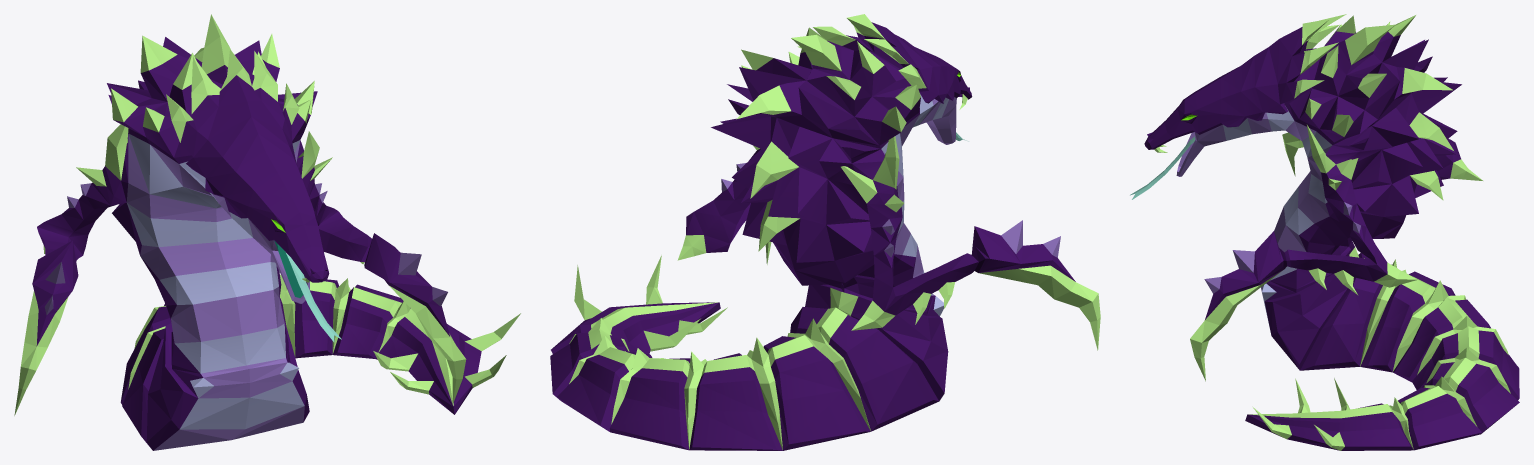
3 views of the same model, side by side, from view 1: azimuth 30°, elevation 25°; view 2: azimuth 150°, elevation 25°; view 3: azimuth 270°, elevation 25° (orthographic). The views are drawn at different scales.
Parts seen in each view (by area): view 1: Alien_Serpent; view 2: Alien_Serpent; view 3: Alien_Serpent.
Part boxes in pixels (left/top/right/bottom): Alien_Serpent: left=14, top=14, right=520, bottom=450; Alien_Serpent: left=550, top=14, right=1100, bottom=450; Alien_Serpent: left=1130, top=14, right=1519, bottom=450.
Bounding box in the file's own units: 301 × 212 × 225.
1 material, 1 textured.
